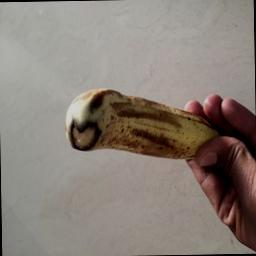Banana Ripe: (58, 66, 224, 187)
